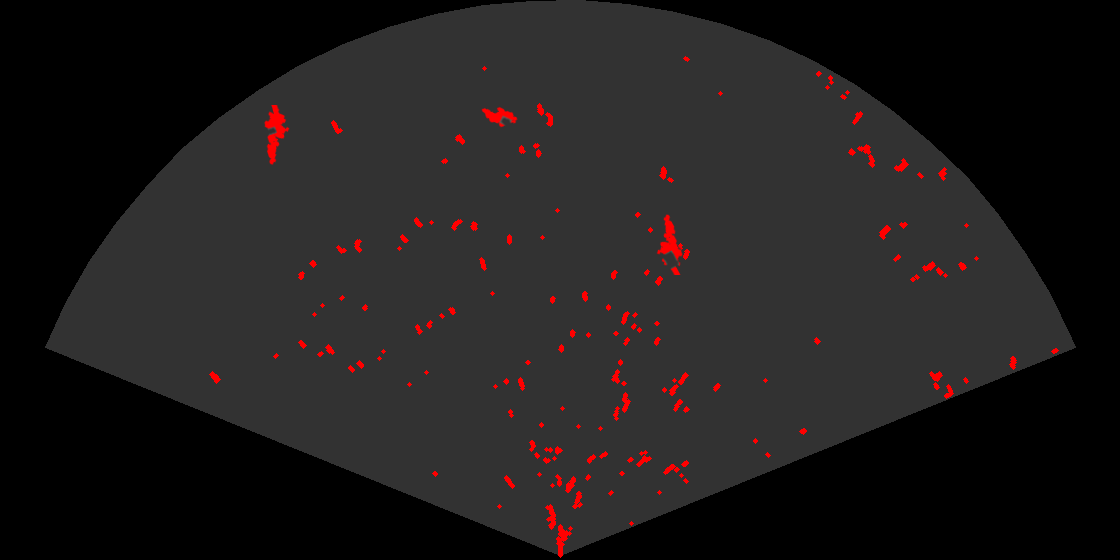AUV: (480, 105, 519, 129)
frogman: (655, 213, 684, 275), (263, 105, 291, 167)
